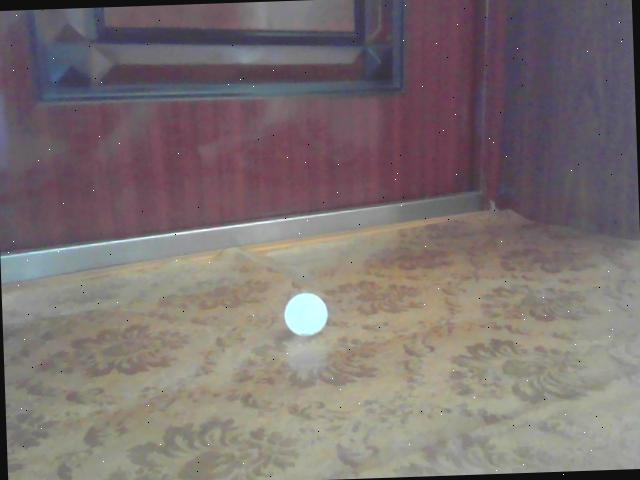ball: (284, 294, 328, 335)
